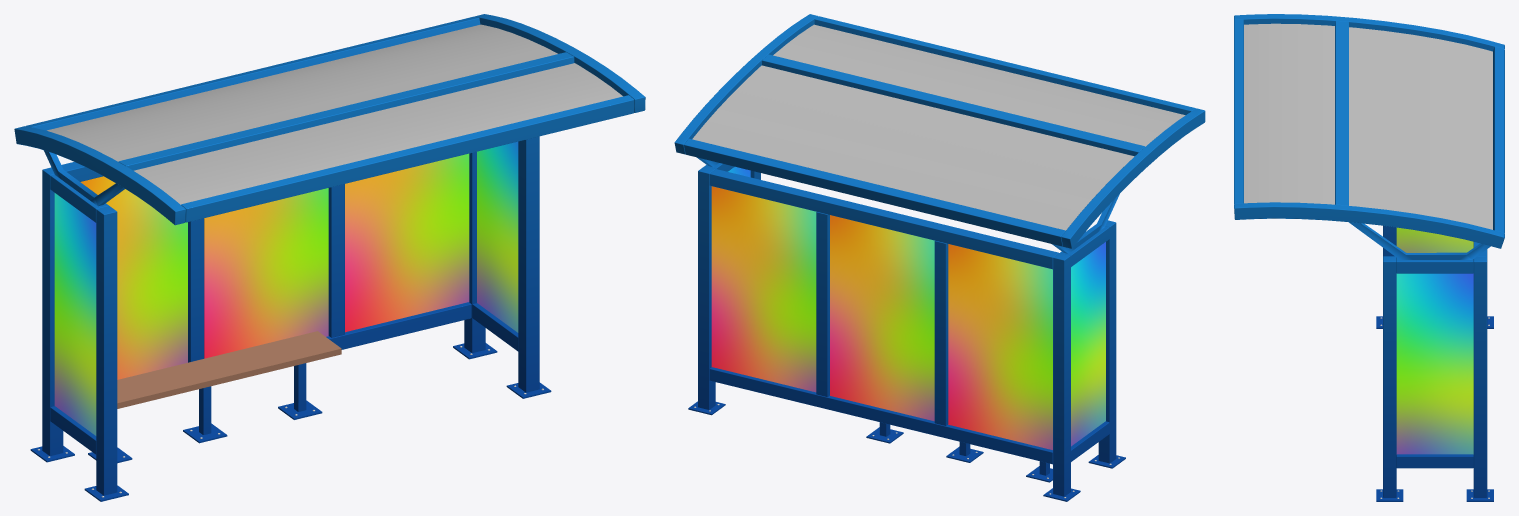
The model's file is bus_stop.glb.
3 renders of one model, left to right at view 1: azimuth 30°, elevation 25°; view 2: azimuth 150°, elevation 25°; view 3: azimuth 270°, elevation 25°, orthographic. The views are drawn at different scales.
Visible parts, largest first — view 1: bus_stop; view 2: bus_stop; view 3: bus_stop.
Part boxes in pixels (x1,y1,x2,y2): bus_stop: (14,14,645,501); bus_stop: (674,14,1205,501); bus_stop: (1234,14,1504,501).
Size of the model in its own units: 3.4 by 2.46 by 2.02.
3 materials, 3 textured.
